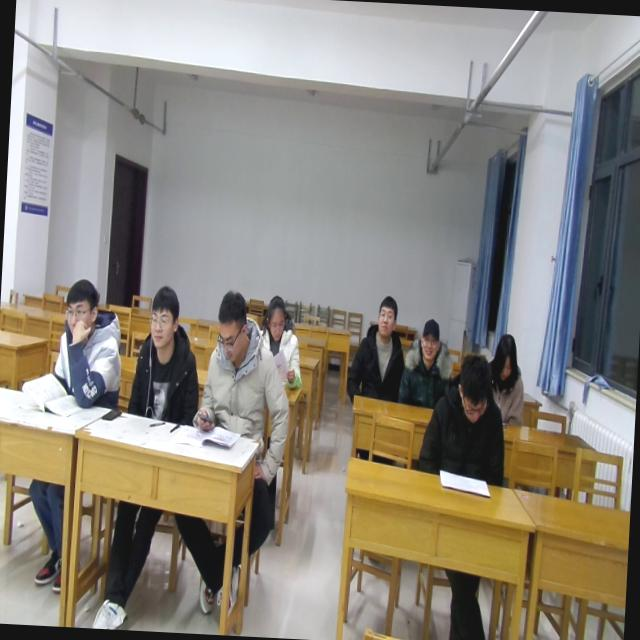down: (451, 347, 495, 431), (212, 286, 252, 364), (489, 328, 522, 388), (262, 290, 291, 344)
lookup: (60, 272, 102, 342), (146, 280, 183, 353), (414, 311, 444, 364), (371, 288, 399, 340)
sit: (192, 287, 296, 442), (416, 350, 512, 488), (126, 283, 206, 426), (49, 271, 128, 409), (344, 292, 410, 404), (400, 314, 460, 408), (256, 291, 306, 393), (484, 332, 530, 428)
